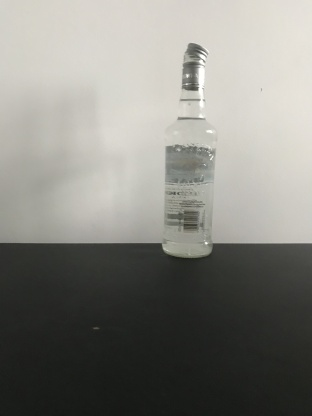nakretka: (180, 40, 209, 91)
